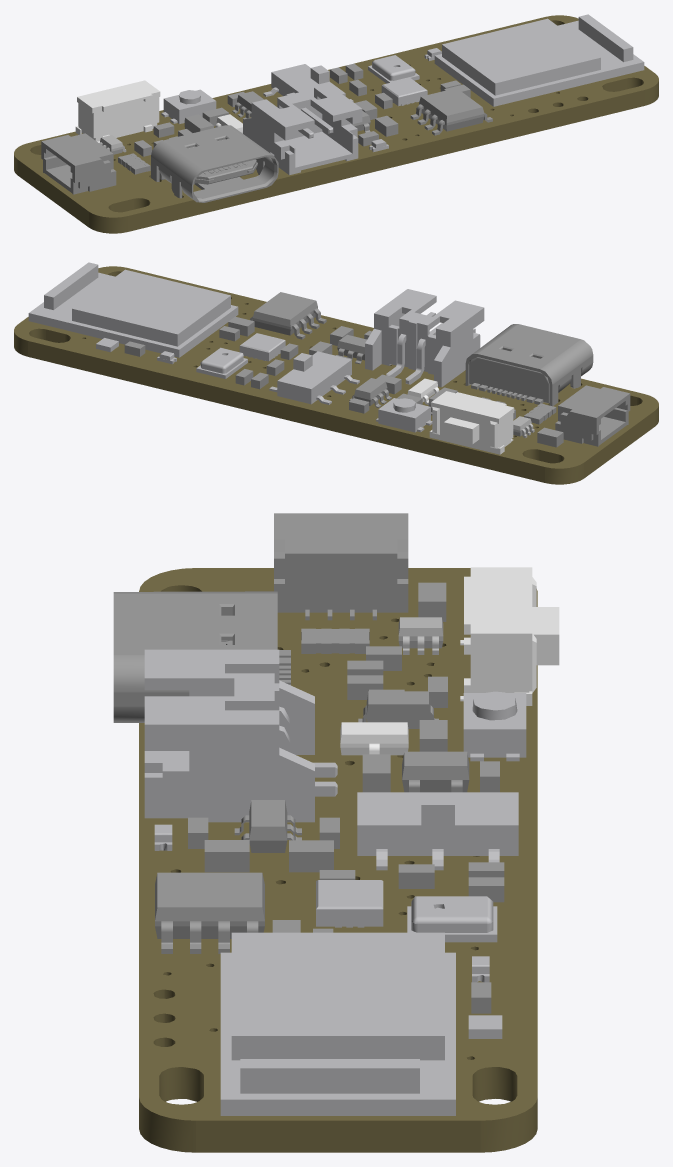
The model's file is ada-5217.glb.
3 views of the same model, one above another, from view 1: azimuth 30°, elevation 25°; view 2: azimuth 150°, elevation 25°; view 3: azimuth 270°, elevation 25° (orthographic). The views are drawn at different scales.
Visible parts, largest first — view 1: 0.16666666666666666_0.16666666666666666_0.08333333333333333_, 0.5833333333333334_0.5833333333333334_0.5833333333333334_0.8, 0.3333333333333333_0.3333333333333333_0.3333333333333333_0, 0.9166666666666666_0.9166666666666666_0.9166666666666666_0.8, 0.5_0.5_0.5_0.85; view 2: 0.16666666666666666_0.16666666666666666_0.08333333333333333_, 0.5833333333333334_0.5833333333333334_0.5833333333333334_0.8, 0.3333333333333333_0.3333333333333333_0.3333333333333333_0, 0.9166666666666666_0.9166666666666666_0.9166666666666666_0.8, 0.5_0.5_0.5_0.85; view 3: 0.5833333333333334_0.5833333333333334_0.5833333333333334_0.8, 0.16666666666666666_0.16666666666666666_0.08333333333333333_, 0.3333333333333333_0.3333333333333333_0.3333333333333333_0, 0.9166666666666666_0.9166666666666666_0.9166666666666666_0.8, 0.5_0.5_0.5_0.85.
Boxes of the visible parts, left/top/right/bottom form: 0.16666666666666666_0.16666666666666666_0.08333333333333333_: left=14, top=15, right=658, bottom=233; 0.5833333333333334_0.5833333333333334_0.5833333333333334_0.8: left=161, top=14, right=644, bottom=174; 0.3333333333333333_0.3333333333333333_0.3333333333333333_0: left=41, top=63, right=492, bottom=202; 0.9166666666666666_0.9166666666666666_0.9166666666666666_0.8: left=75, top=80, right=242, bottom=142; 0.5_0.5_0.5_0.85: left=99, top=135, right=126, bottom=154; 0.16666666666666666_0.16666666666666666_0.08333333333333333_: left=14, top=266, right=658, bottom=484; 0.5833333333333334_0.5833333333333334_0.5833333333333334_0.8: left=28, top=262, right=484, bottom=432; 0.3333333333333333_0.3333333333333333_0.3333333333333333_0: left=124, top=292, right=630, bottom=447; 0.9166666666666666_0.9166666666666666_0.9166666666666666_0.8: left=407, top=378, right=514, bottom=454; 0.5_0.5_0.5_0.85: left=513, top=416, right=534, bottom=438; 0.5833333333333334_0.5833333333333334_0.5833333333333334_0.8: left=144, top=649, right=526, bottom=1115; 0.16666666666666666_0.16666666666666666_0.08333333333333333_: left=139, top=568, right=537, bottom=1152; 0.3333333333333333_0.3333333333333333_0.3333333333333333_0: left=113, top=513, right=504, bottom=1013; 0.9166666666666666_0.9166666666666666_0.9166666666666666_0.8: left=340, top=567, right=559, bottom=755; 0.5_0.5_0.5_0.85: left=398, top=617, right=443, bottom=654.
Bounding box in the file's own units: 5.83 × 0.637 × 1.99.
